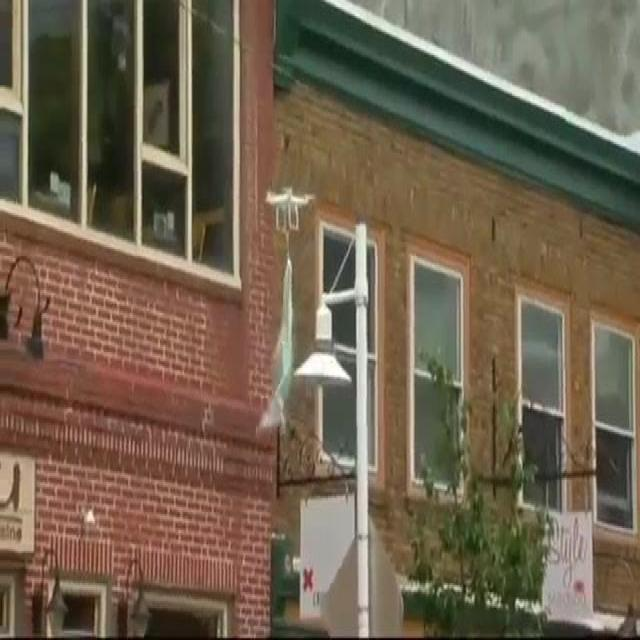drone: (265, 186, 315, 234)
